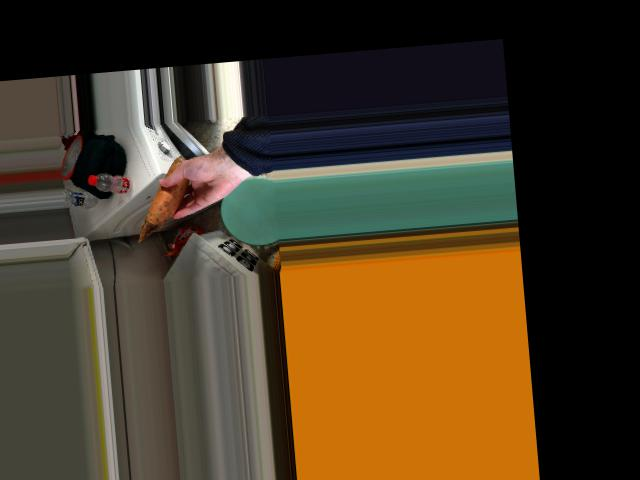sweet_potato: (142, 170, 190, 219)
